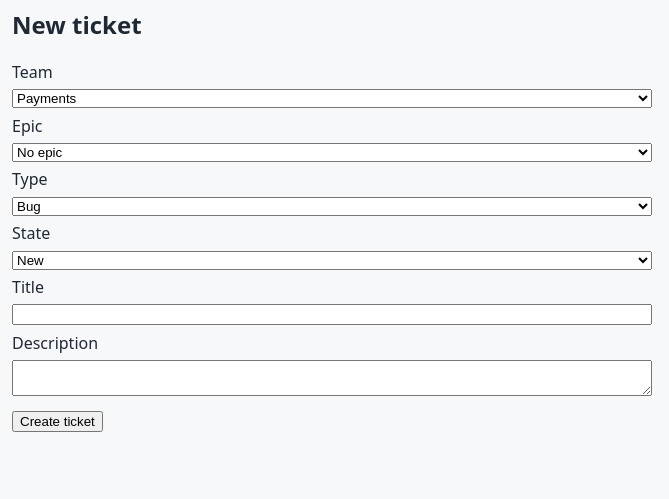
Scenario: Ticket team/epic linkage › surfaces a backend EPIC_TEAM_MISMATCH as an epic field error (negative)
The width and height of the screenshot is (669, 499).
Step 1. Type "Mismatch" into the field labelled "Title" → (332, 315), box [12,304,652,325]
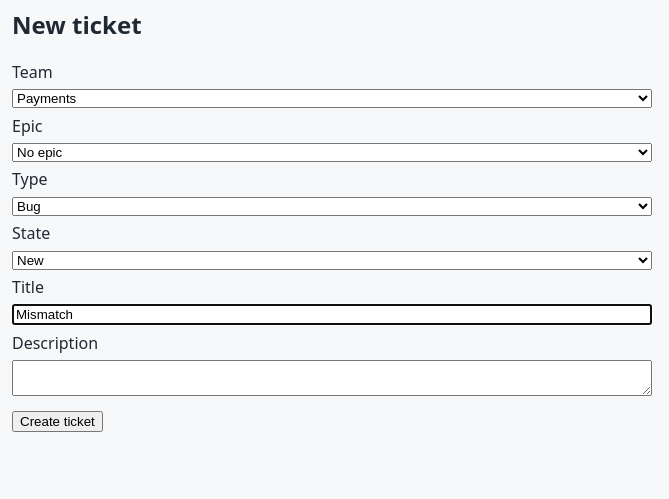
Step 2. Type "Body" into the text box labelled "Description" → (332, 378), box [12,360,652,396]
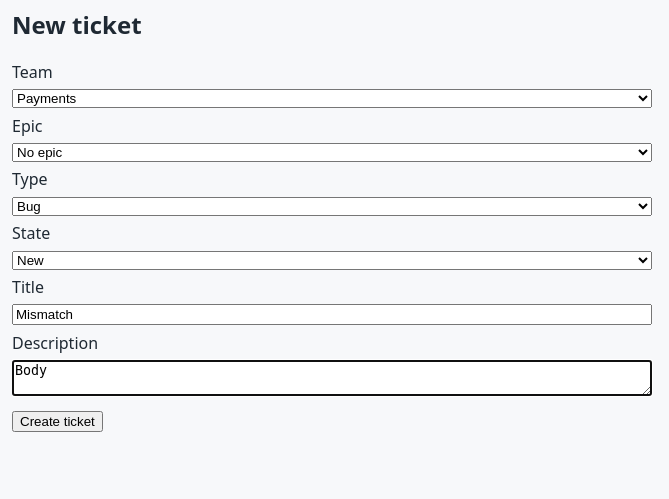
Step 3. Select "Checkout" in the dropdown labelled "Epic" → (332, 152), box [12,143,652,162]
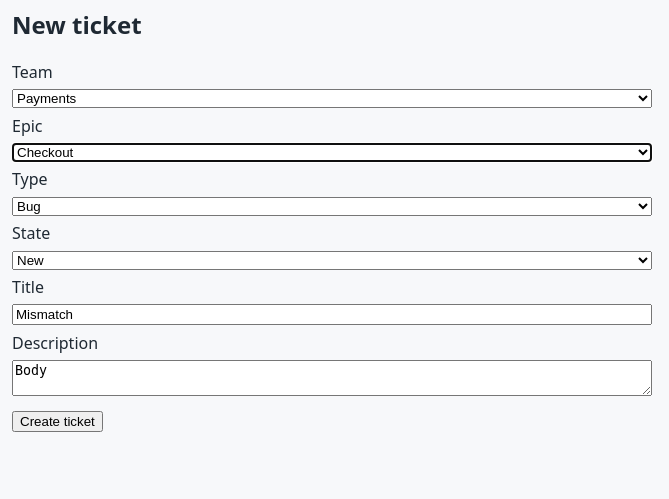
Step 4. Click the button "Create ticket" → (57, 421), box [12,410,103,432]
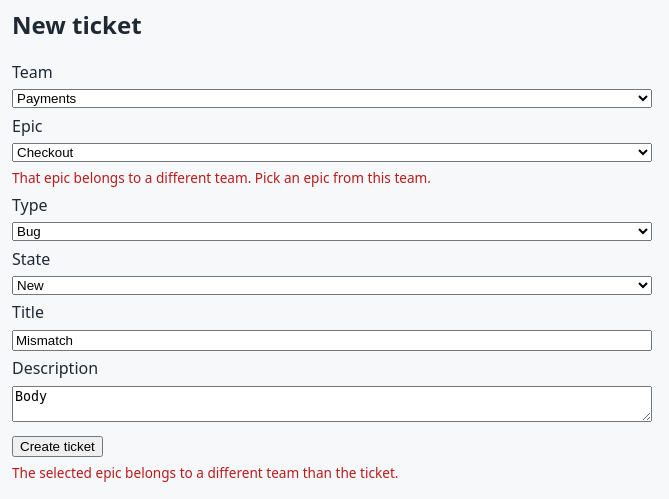
Check: the text "That epic belongs to a different team. Pick an epic from this team." is shown, box [12,168,431,187]
